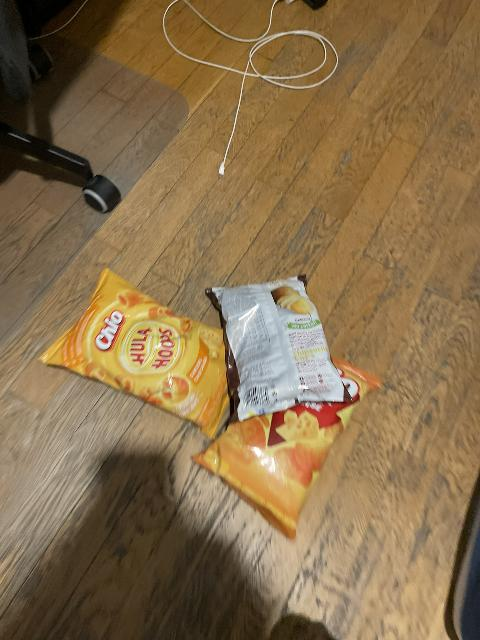Chio Cascaval 125g: (193, 360, 382, 539)
Chio Hula Hoops Cheese 70g: (40, 270, 231, 431)
Lays Beef Grilled Ribs 125g: (208, 276, 353, 420)
